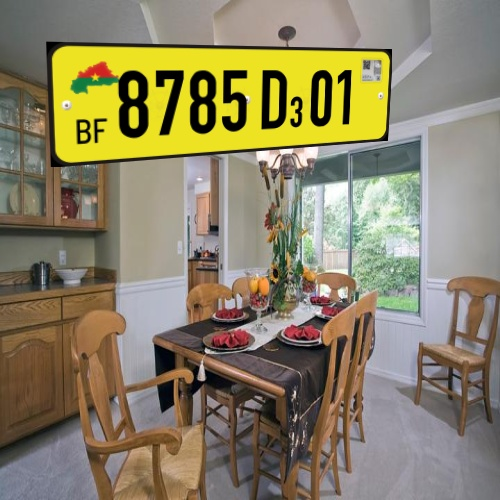plate: (39, 29, 403, 174)
